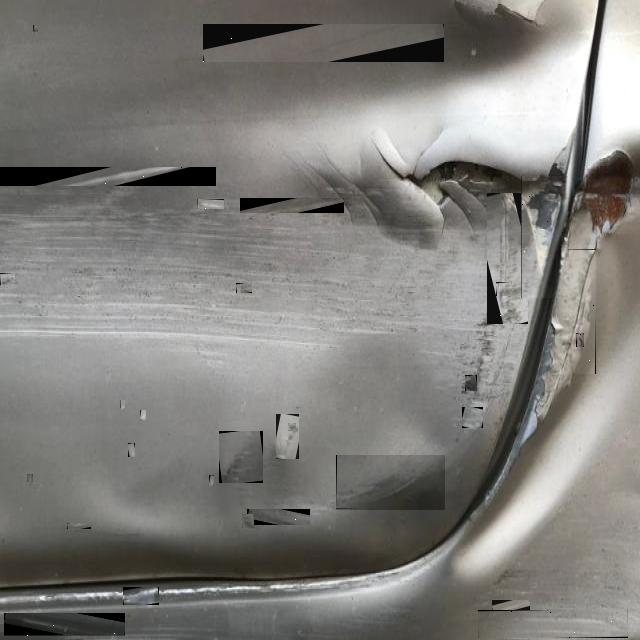Dent: (203, 24, 444, 62), (336, 456, 445, 512), (521, 176, 568, 298), (487, 193, 528, 324), (556, 249, 596, 374), (478, 610, 628, 638), (0, 167, 216, 186), (4, 614, 125, 638), (219, 431, 263, 483), (240, 198, 344, 213), (276, 414, 299, 459), (247, 509, 310, 525), (123, 587, 159, 605), (462, 407, 483, 428), (492, 600, 530, 610), (197, 199, 224, 209), (496, 282, 512, 296), (67, 524, 91, 532), (465, 375, 477, 391), (0, 273, 15, 285), (242, 514, 254, 528), (236, 283, 252, 293), (576, 333, 584, 347), (128, 443, 135, 457), (288, 423, 296, 431), (140, 410, 146, 420), (209, 475, 214, 486), (27, 474, 33, 482), (33, 26, 38, 34), (120, 401, 125, 408)
